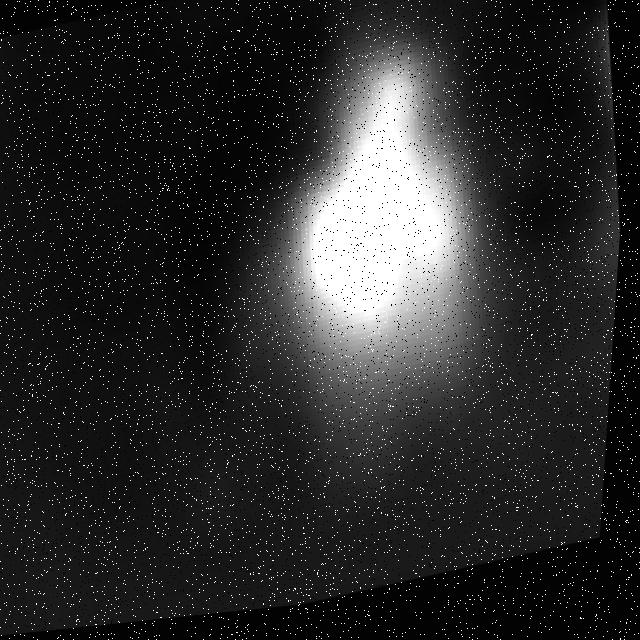person: (211, 2, 537, 526)
